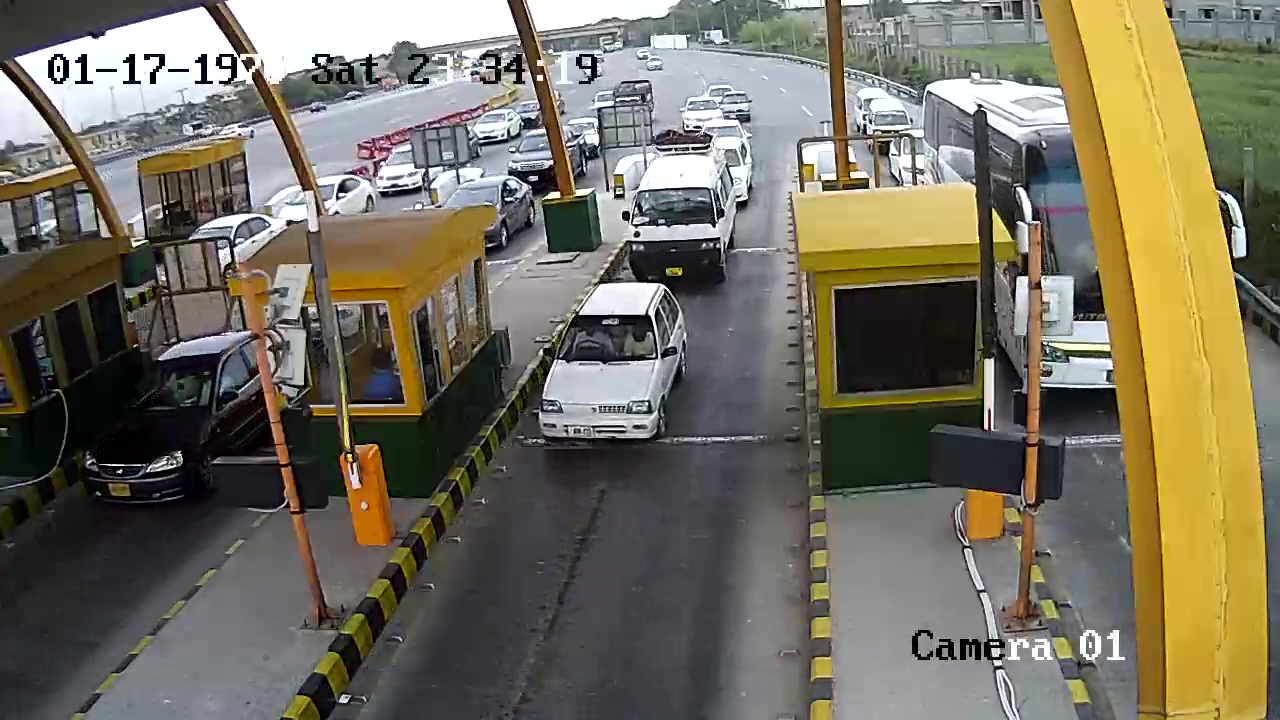F1: (532, 282, 695, 461)
